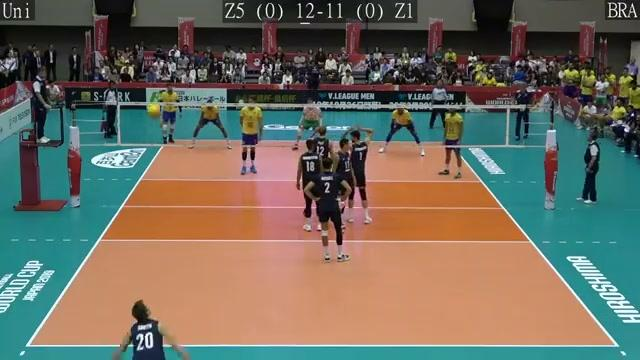ball: (146, 102, 162, 117)
